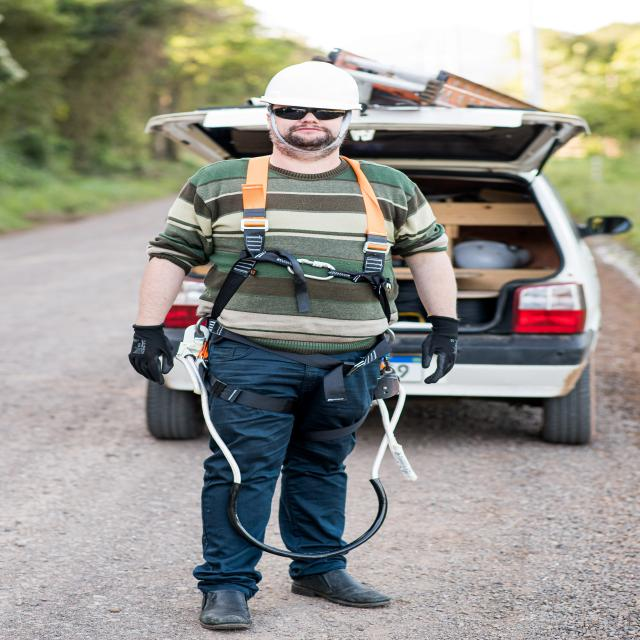botas: (284, 561, 399, 612), (192, 575, 258, 632)
capacete: (255, 58, 369, 118)
corda de vida: (178, 150, 408, 438)
luva: (116, 318, 183, 391), (416, 312, 462, 388)
